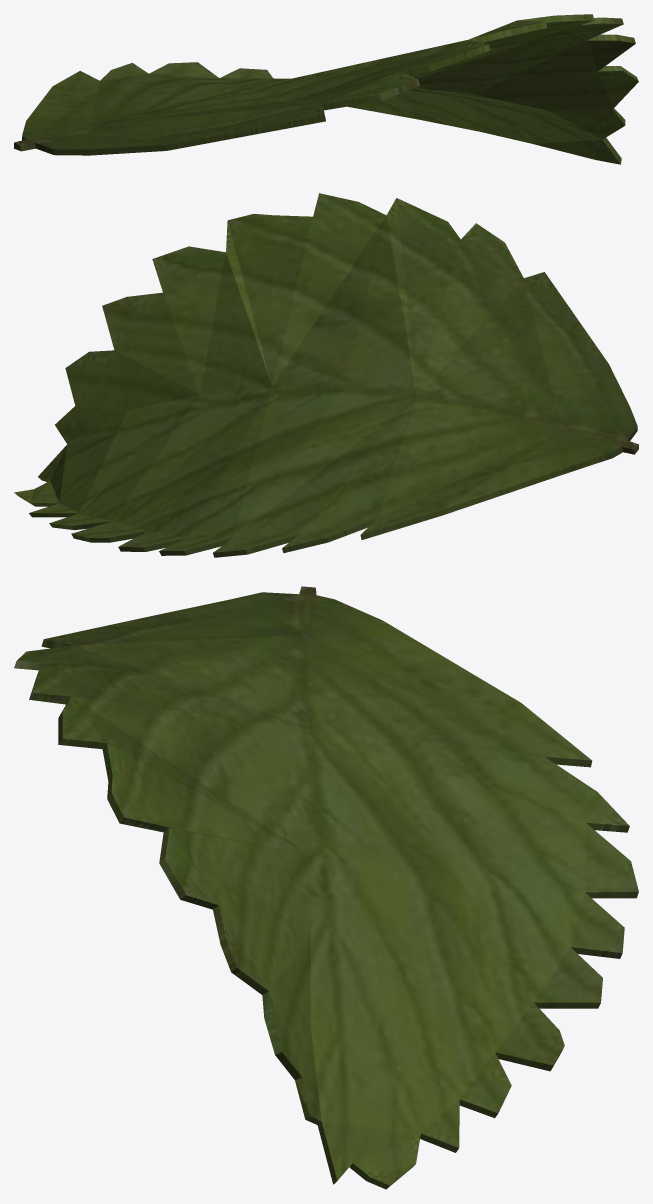
The model's file is leaf5_g1.dae.
The picture shows the model from 3 angles, top to bottom: view 1: azimuth 30°, elevation 25°; view 2: azimuth 150°, elevation 25°; view 3: azimuth 270°, elevation 25°; orthographic projection. The views are drawn at different scales.
Parts seen in each view (by area): view 1: Plane; view 2: Plane; view 3: Plane.
Part boxes in pixels (x1,y1,x2,y2): Plane: (14, 14, 638, 164); Plane: (14, 193, 638, 557); Plane: (14, 586, 638, 1189).
Bounding box in the file's own units: 0.1375 × 0.0957 × 0.0575.
1 material, 1 textured.
